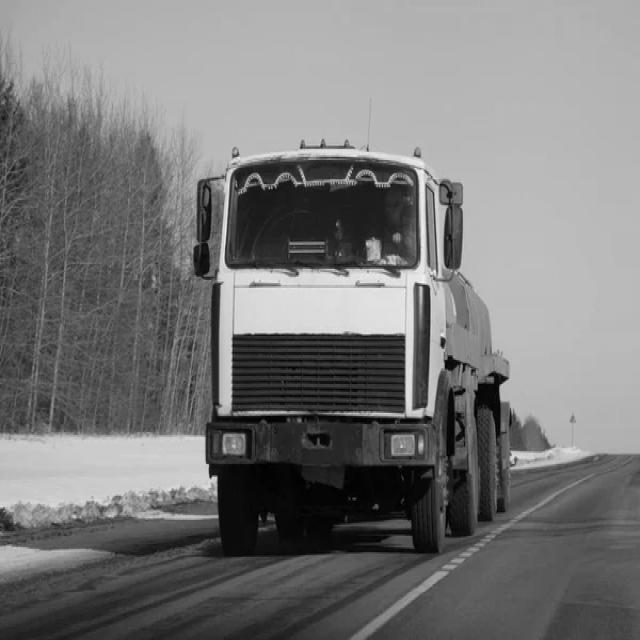Truck: (206, 142, 511, 556)
